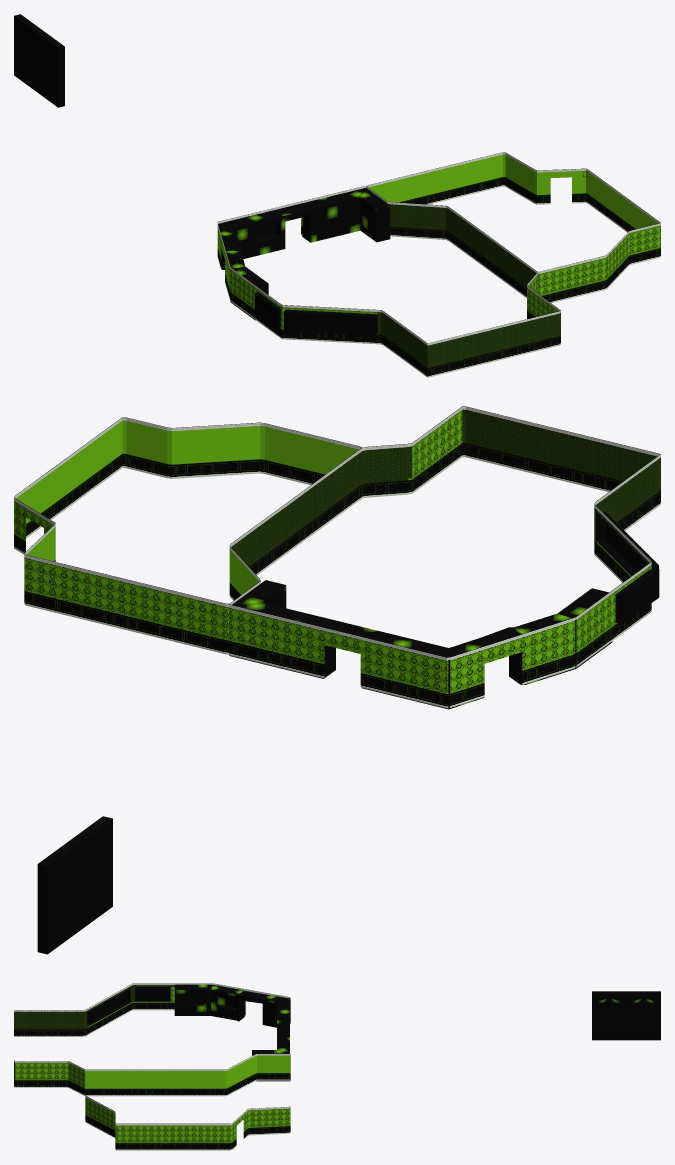
File: officeBar_walls-odditiesCabinet.fbx
3 views of the same model, one above another, from view 1: azimuth 30°, elevation 25°; view 2: azimuth 150°, elevation 25°; view 3: azimuth 270°, elevation 25° (orthographic). The views are drawn at different scales.
Parts seen in each view (by area): view 1: office wall, bar walls, manor base.003, Cube.027; view 2: bar walls, office wall, Cube.027, manor base.003; view 3: office wall, bar walls, manor base.003, Cube.027.
Part boxes in pixels (<box>): office wall: <box>366,152,660,302</box>; bar walls: <box>217,186,560,377</box>; manor base.003: <box>218,188,390,320</box>; Cube.027: <box>14,14,64,107</box>; bar walls: <box>229,406,660,708</box>; office wall: <box>14,417,361,654</box>; Cube.027: <box>37,816,112,954</box>; manor base.003: <box>229,580,612,709</box>; office wall: <box>85,1053,290,1150</box>; bar walls: <box>14,983,290,1095</box>; manor base.003: <box>174,984,289,1081</box>; Cube.027: <box>592,991,660,1040</box>.
Size of the model in its own units: 3401 by 519 by 6541.
